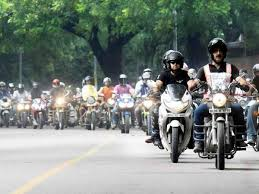helmet: (204, 37, 229, 67), (160, 48, 187, 71)
